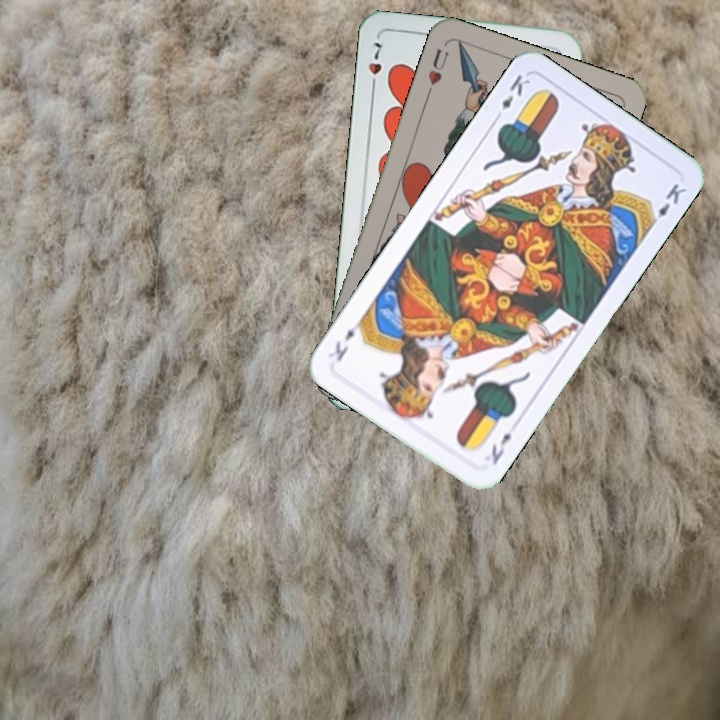EK: (490, 70, 533, 124), (487, 428, 514, 468)
H7: (364, 38, 384, 95)
HU: (423, 44, 452, 98)
